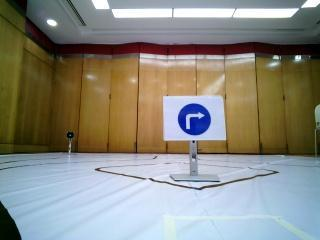right: (163, 97, 224, 143)
